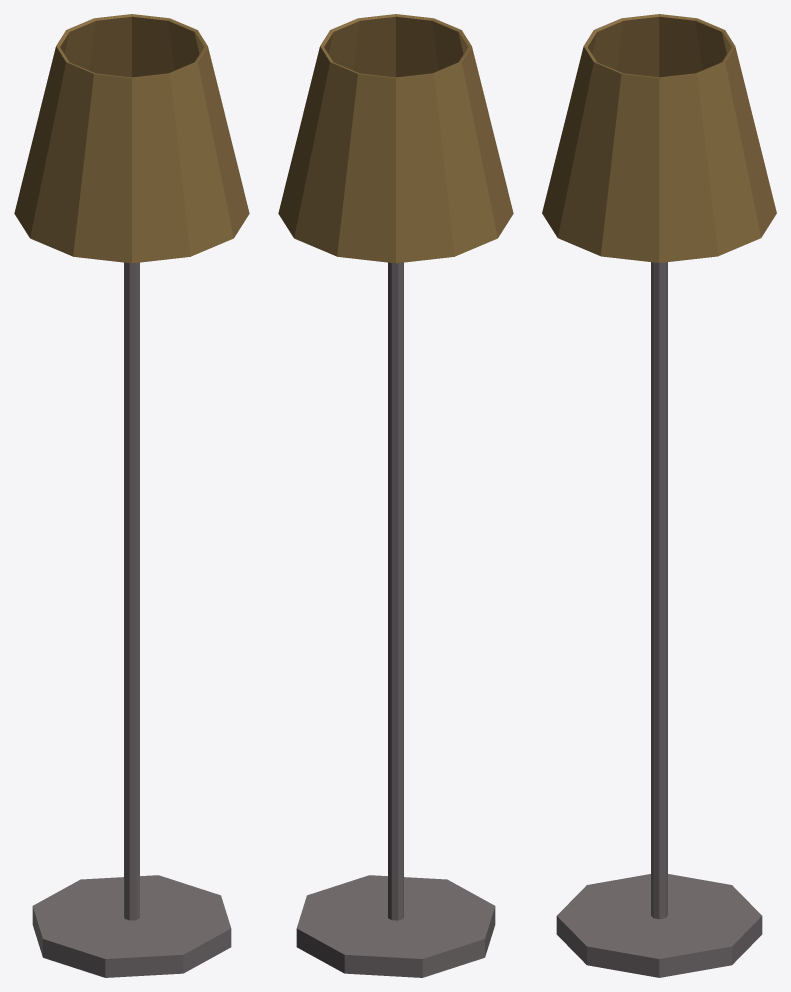
File: FloorLamp1.glb
3 renders of one model, left to right at view 1: azimuth 30°, elevation 25°; view 2: azimuth 150°, elevation 25°; view 3: azimuth 270°, elevation 25°, orthographic.
Visible parts, largest first — view 1: FloorLamp1; view 2: FloorLamp1; view 3: FloorLamp1.
Part boxes in pixels (<box>): FloorLamp1: <box>14,14,249,977</box>; FloorLamp1: <box>278,14,513,977</box>; FloorLamp1: <box>542,14,776,977</box>.
Bounding box in the file's own units: 0.5164 × 2.15 × 0.5164.
